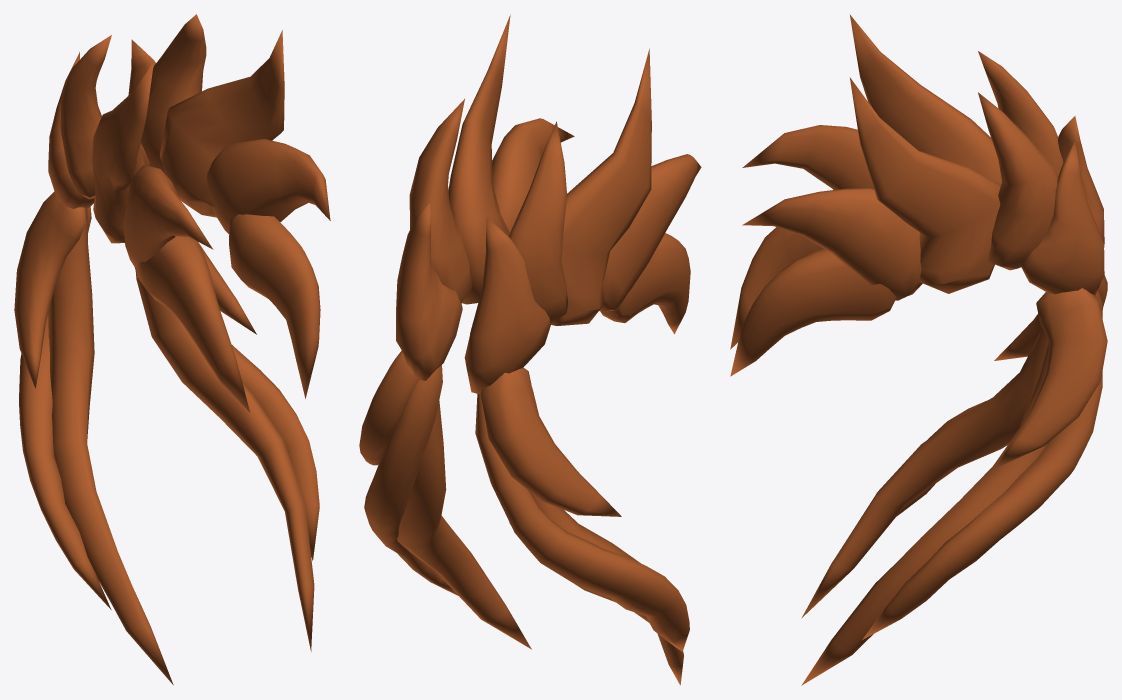
3 views of the same model, side by side, from view 1: azimuth 30°, elevation 25°; view 2: azimuth 150°, elevation 25°; view 3: azimuth 270°, elevation 25° (orthographic). The views are drawn at different scales.
Visible parts, largest first — view 1: Wolf3D_Hair.064; view 2: Wolf3D_Hair.064; view 3: Wolf3D_Hair.064.
Boxes of the visible parts, x1=… form: Wolf3D_Hair.064: x1=14, y1=14, x2=330, y2=684; Wolf3D_Hair.064: x1=359, y1=14, x2=701, y2=685; Wolf3D_Hair.064: x1=730, y1=14, x2=1107, y2=685.
Size of the model in its own units: 0.2523 by 0.5459 by 0.3075.
1 material, 1 textured.
